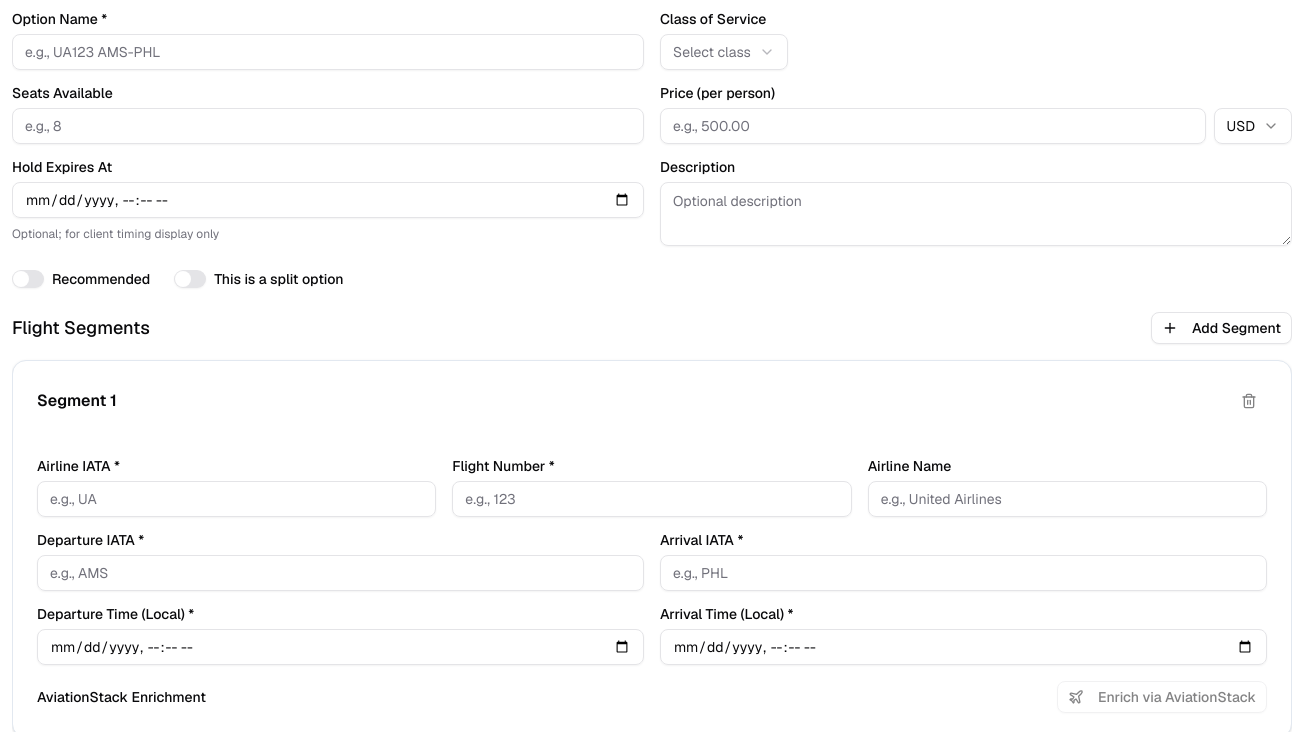
Test: ManualOptionForm › should show enrichment button when airline and flight number are filled
Step 1. Type "UA" into the field labelled "Airline IATA *" → (237, 499), box [37, 481, 436, 517]
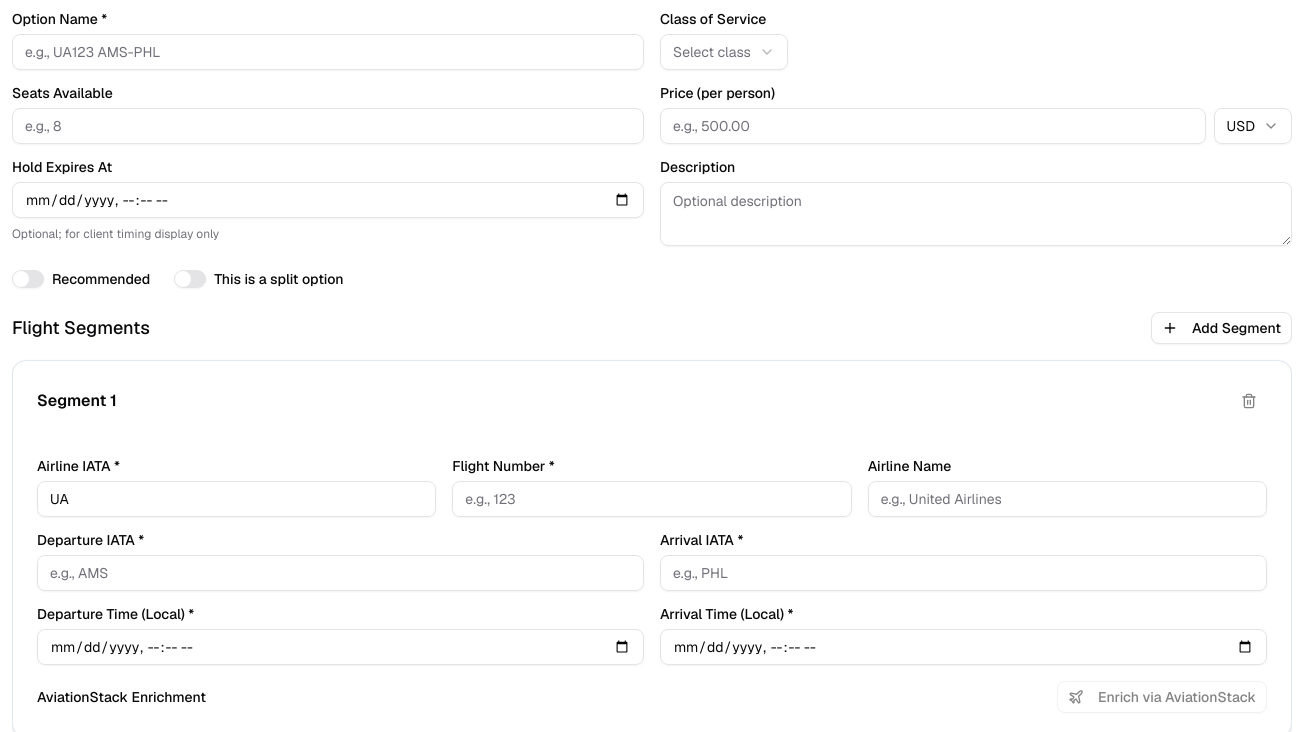
Step 2. Type "123" into the field labelled "Flight Number *" → (652, 499), box [452, 481, 852, 517]
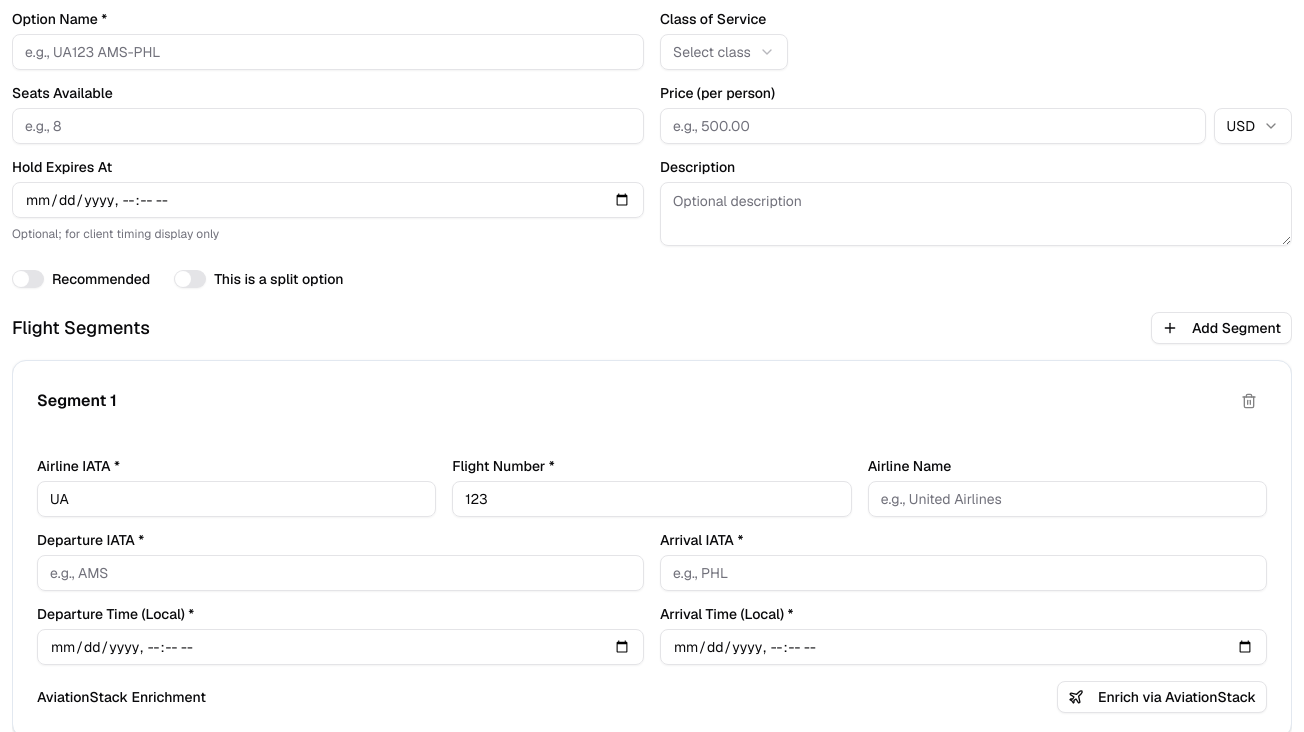
Expected: the button "Enrich via AviationStack" is enabled, [1057, 681, 1267, 713]
